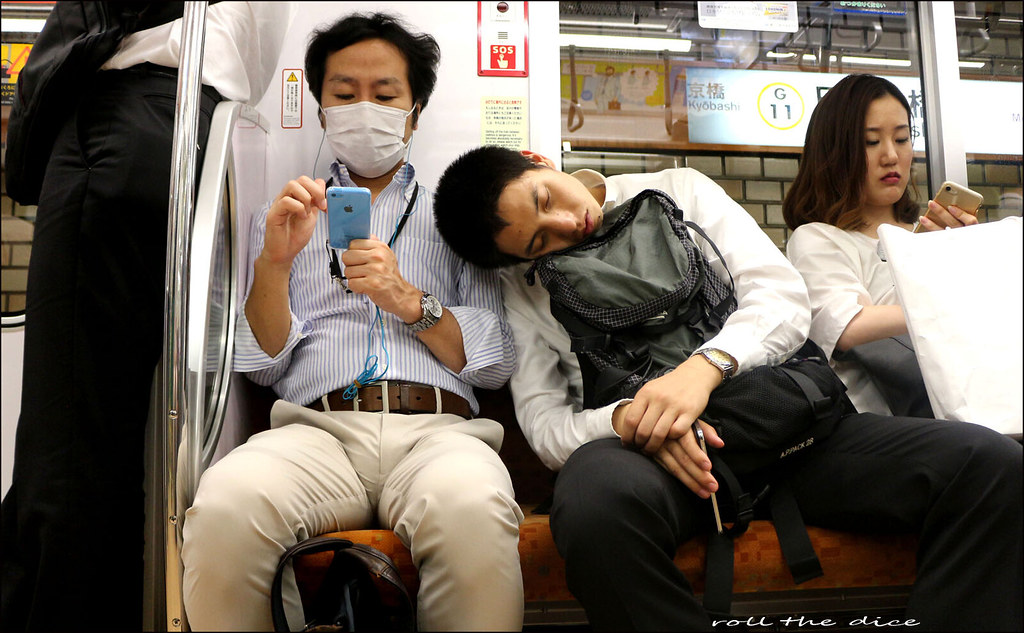mask: (322, 102, 410, 180)
